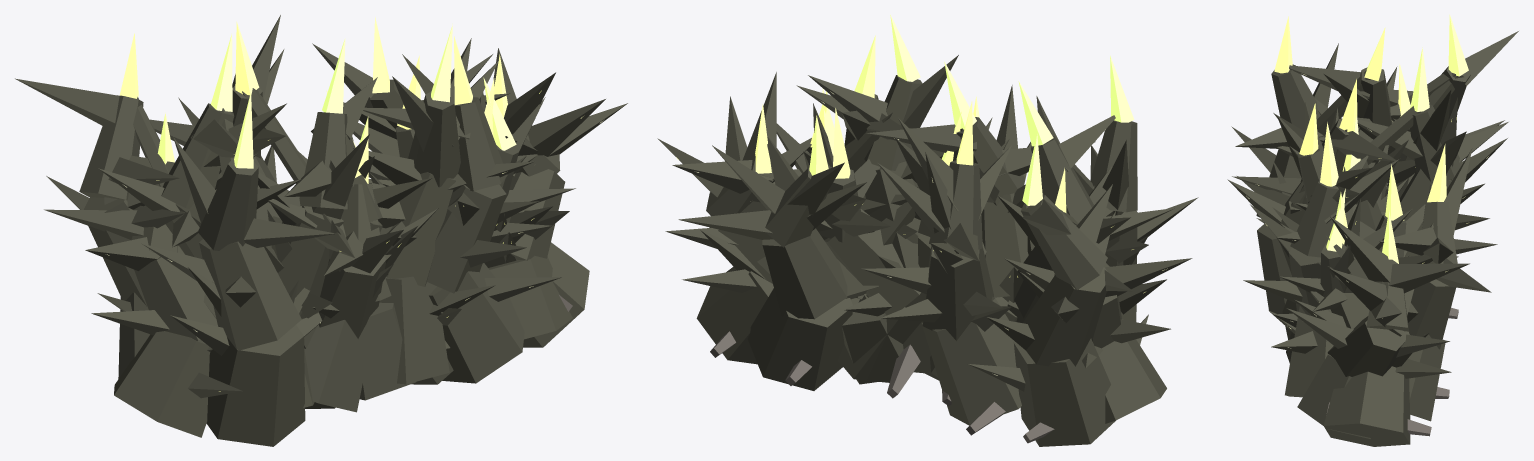
Rendered from thorn_wall_0.glb.
3 views of the same model, side by side, from view 1: azimuth 30°, elevation 25°; view 2: azimuth 150°, elevation 25°; view 3: azimuth 270°, elevation 25° (orthographic). The views are drawn at different scales.
Visible parts, largest first — view 1: thorn_wall_0; view 2: thorn_wall_0; view 3: thorn_wall_0.
Part boxes in pixels (<box>): thorn_wall_0: <box>15,15,627,446</box>; thorn_wall_0: <box>657,14,1198,446</box>; thorn_wall_0: <box>1227,14,1518,446</box>.
Size of the model in its own units: 4.11 by 2.64 by 2.24.
